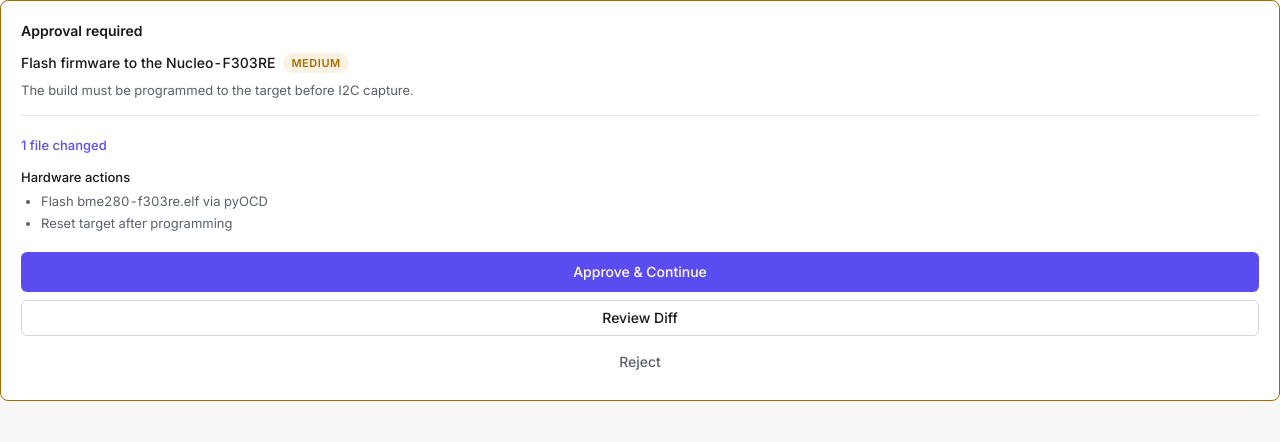
Test: ApprovalCard › expands the files-changed list on demand
What coordinates should you click on to do the following:
click the button "1 file changed"
I would click on:
 (64, 145)
Its box is [21, 136, 107, 154].
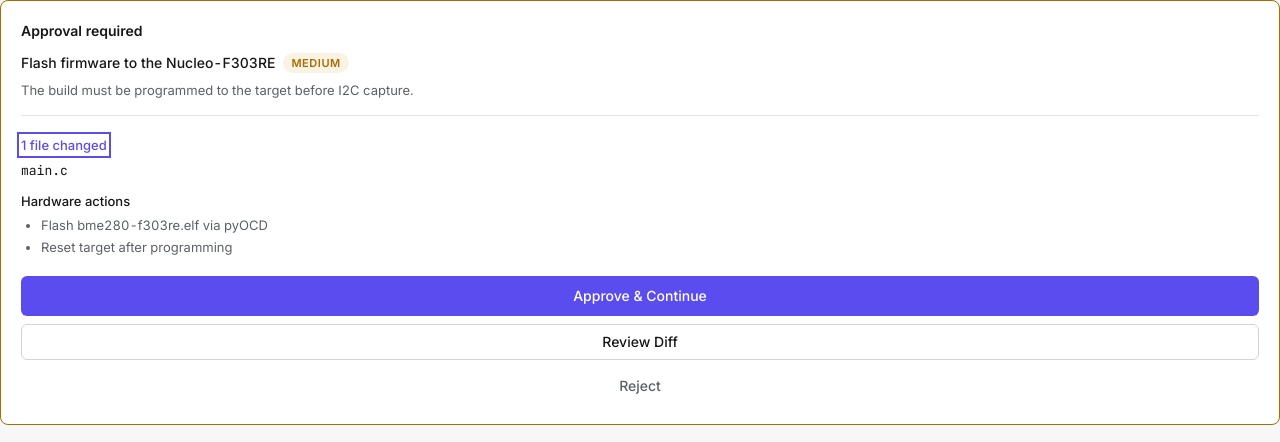
Now the list item "main.c" is shown, box [21, 162, 68, 179]
